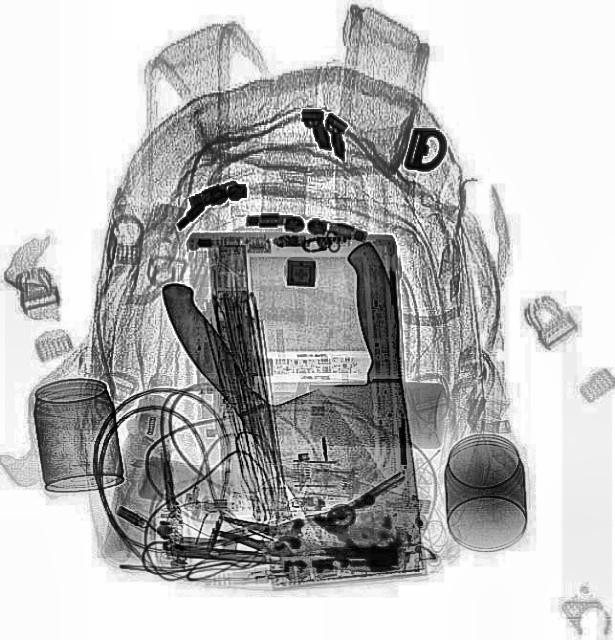Knife: (138, 250, 436, 592), (292, 238, 422, 576)
